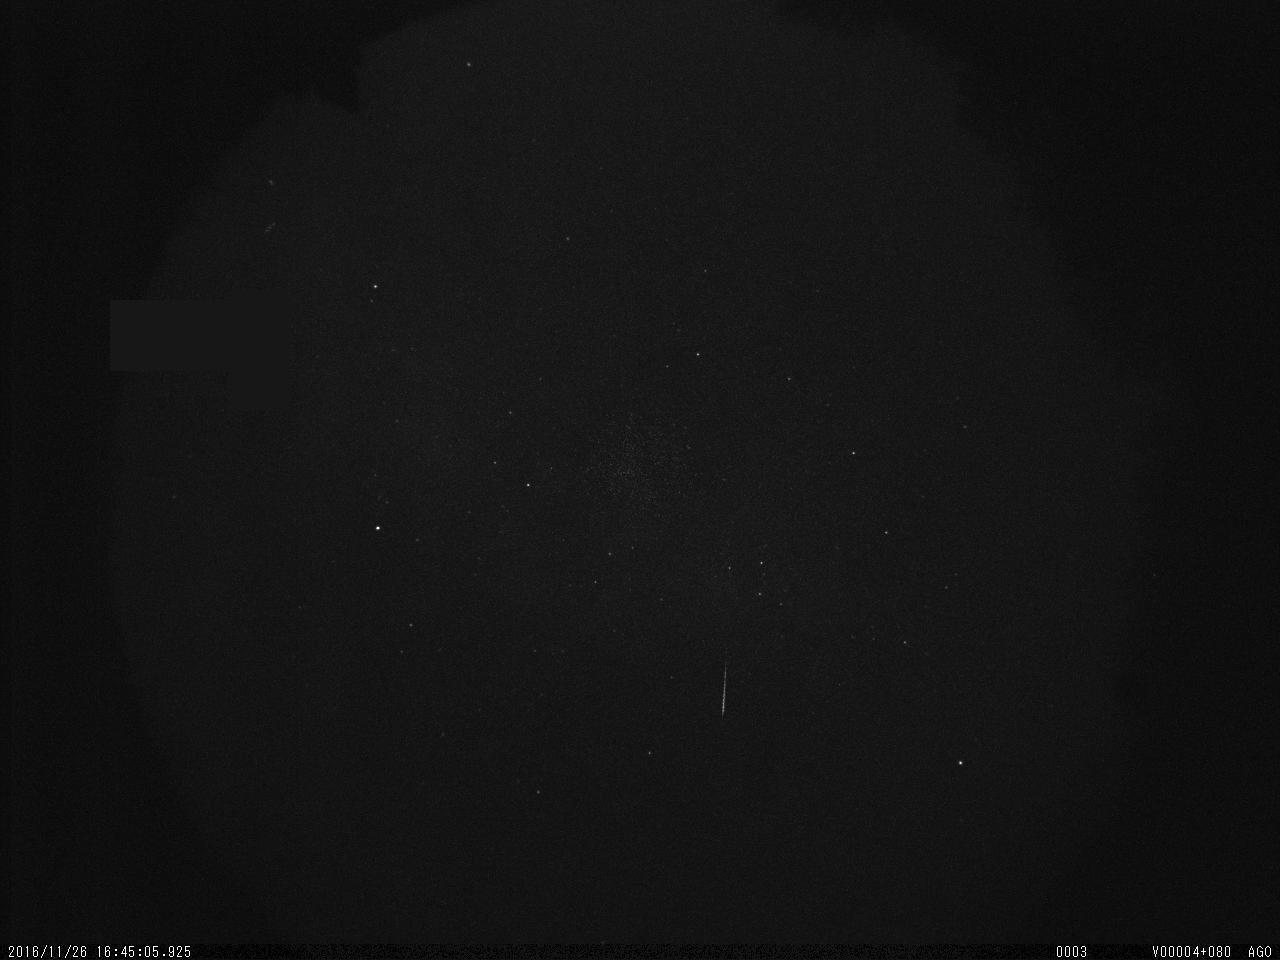meteor: (713, 648, 740, 731)
